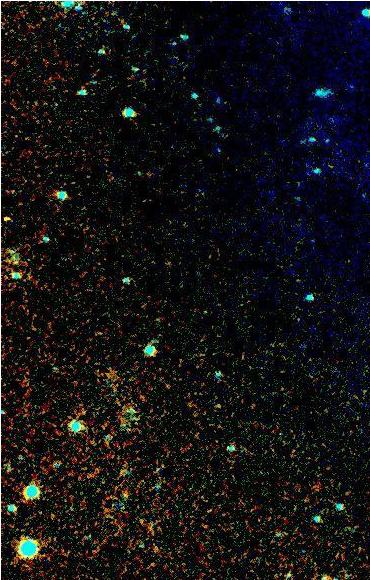star: (113, 481, 143, 511)
